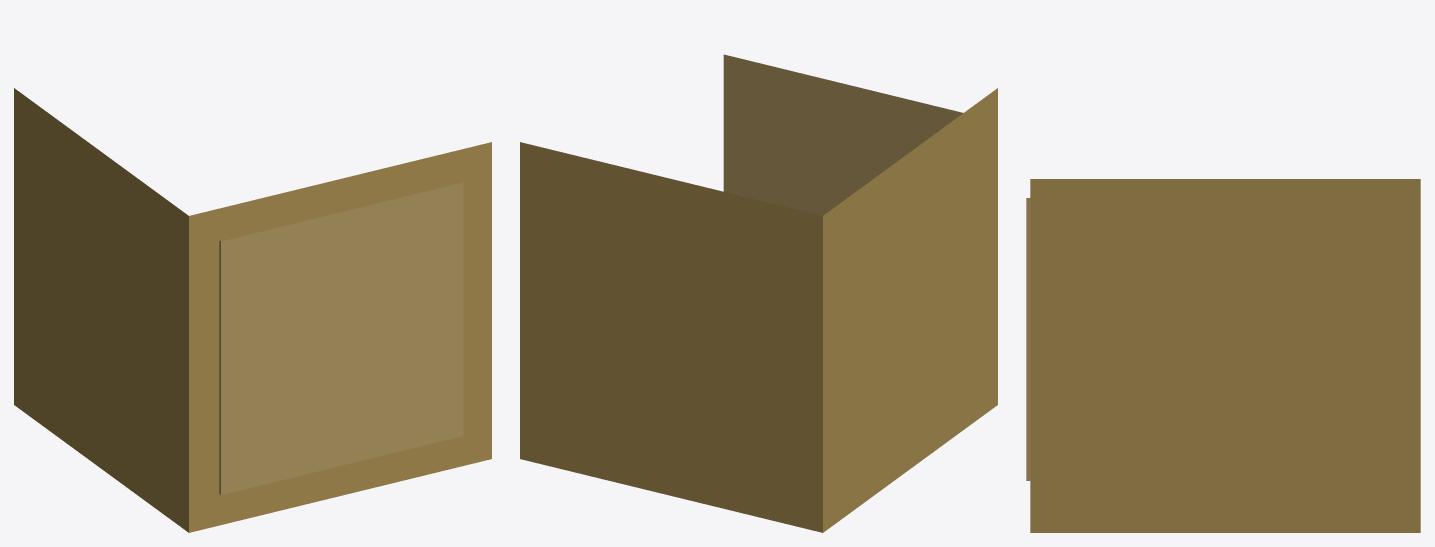
The model's file is Wall-gold.glb.
3 views of the same model, side by side, from view 1: azimuth 30°, elevation 25°; view 2: azimuth 150°, elevation 25°; view 3: azimuth 270°, elevation 25° (orthographic). The views are drawn at different scales.
Parts seen in each view (by area): view 1: Wall; view 2: Wall; view 3: Wall.
Boxes of the visible parts, x1,y1,x2,y2 form: Wall: [14, 88, 491, 532]; Wall: [520, 54, 997, 532]; Wall: [1026, 179, 1420, 532].
Size of the model in its own units: 1 by 1 by 1.01.
